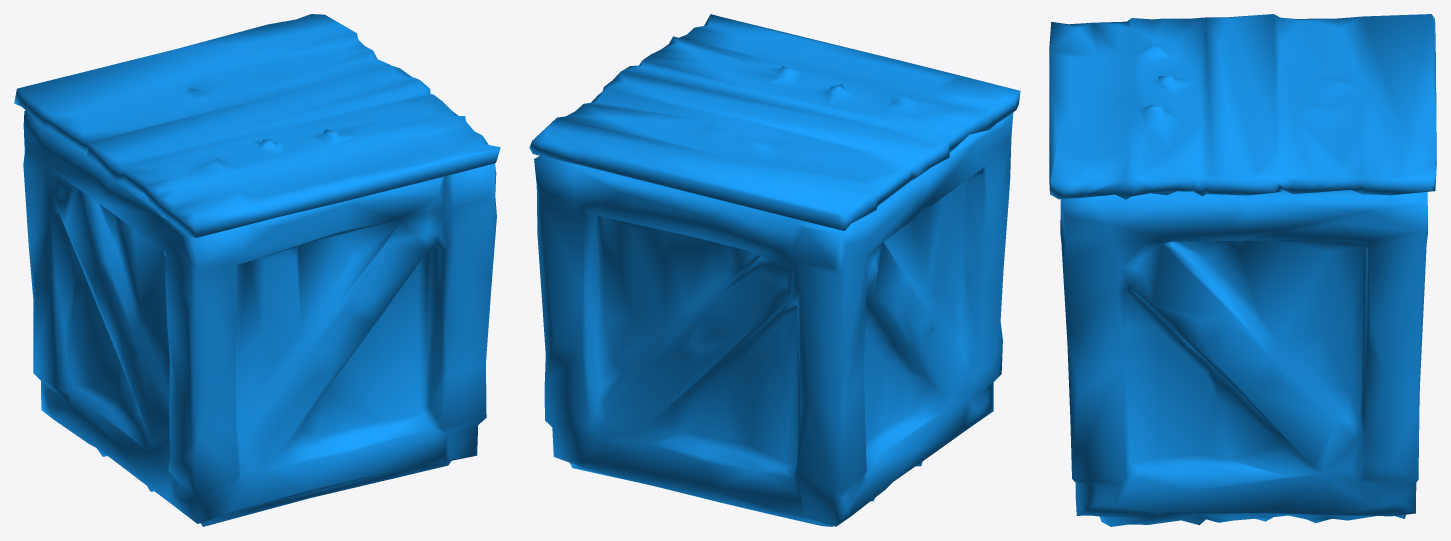
The model's file is MDungeon_CrateClosed_01.FBX.
3 renders of one model, left to right at view 1: azimuth 30°, elevation 25°; view 2: azimuth 150°, elevation 25°; view 3: azimuth 270°, elevation 25°, orthographic. The views are drawn at different scales.
Parts seen in each view (by area): view 1: MDungeon_CrateClosed_01_LOD0, MDungeon_CrateClosed_Lid_01_LOD0; view 2: MDungeon_CrateClosed_01_LOD0, MDungeon_CrateClosed_Lid_01_LOD0; view 3: MDungeon_CrateClosed_01_LOD0, MDungeon_CrateClosed_Lid_01_LOD0.
Part boxes in pixels (bbox=[...]): MDungeon_CrateClosed_01_LOD0: bbox=[23, 110, 496, 526]; MDungeon_CrateClosed_Lid_01_LOD0: bbox=[14, 14, 500, 237]; MDungeon_CrateClosed_01_LOD0: bbox=[534, 112, 1013, 526]; MDungeon_CrateClosed_Lid_01_LOD0: bbox=[529, 14, 1020, 230]; MDungeon_CrateClosed_01_LOD0: bbox=[1060, 190, 1427, 526]; MDungeon_CrateClosed_Lid_01_LOD0: bbox=[1049, 14, 1436, 199].
Size of what is drawn, in the model's own units: 1.05 by 1.1 by 1.03.
